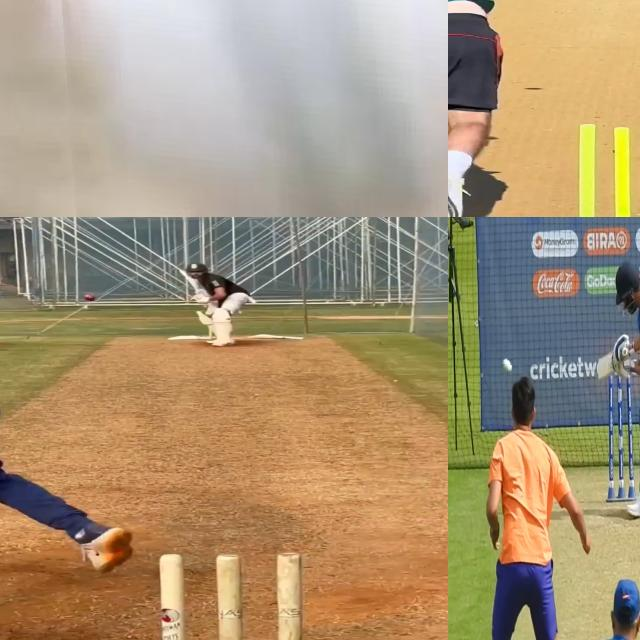Cricket ball: (43, 0, 448, 217), (155, 550, 312, 640), (501, 356, 513, 376), (83, 294, 98, 301)
Stumps: (559, 121, 640, 217), (608, 374, 635, 502)
